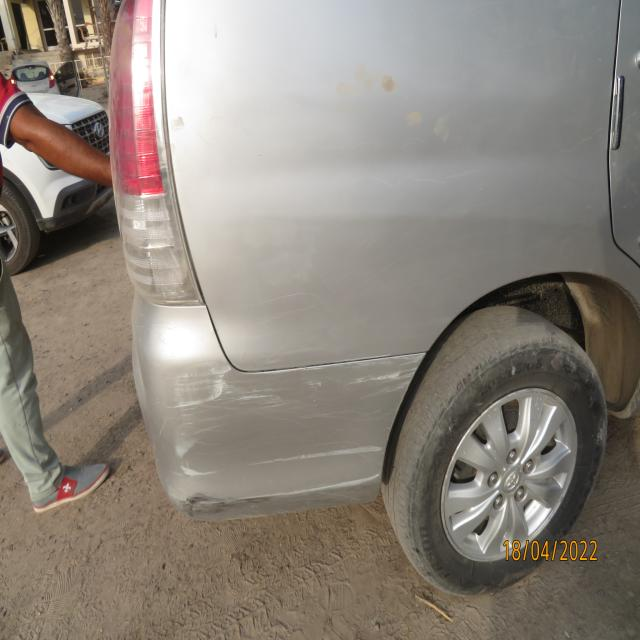damage: (168, 361, 414, 504)
